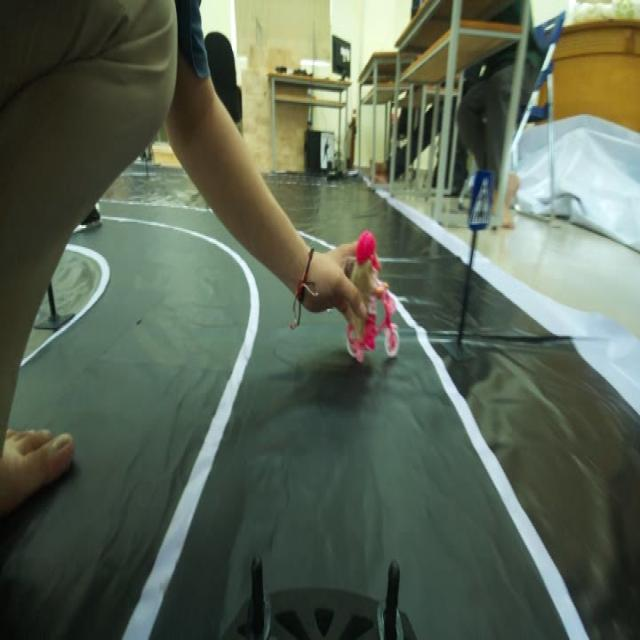crosswalk: (463, 168, 501, 239)
pedestrian: (350, 229, 405, 360)
